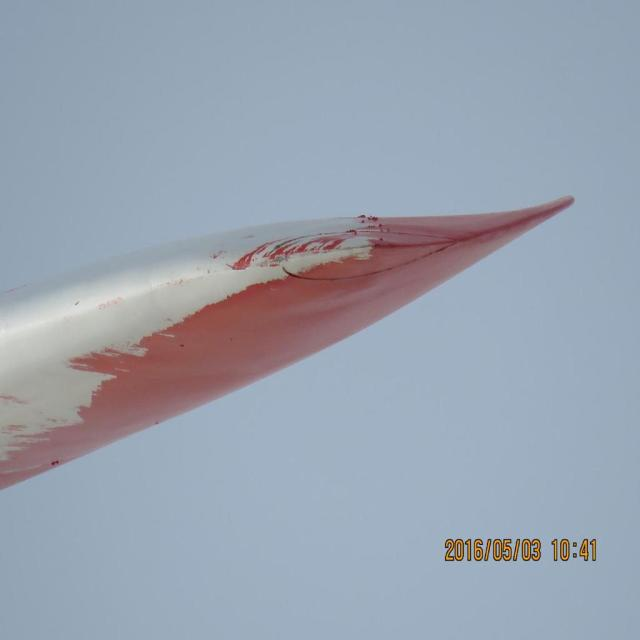surface_peeling: (157, 217, 377, 343), (10, 268, 138, 464)
